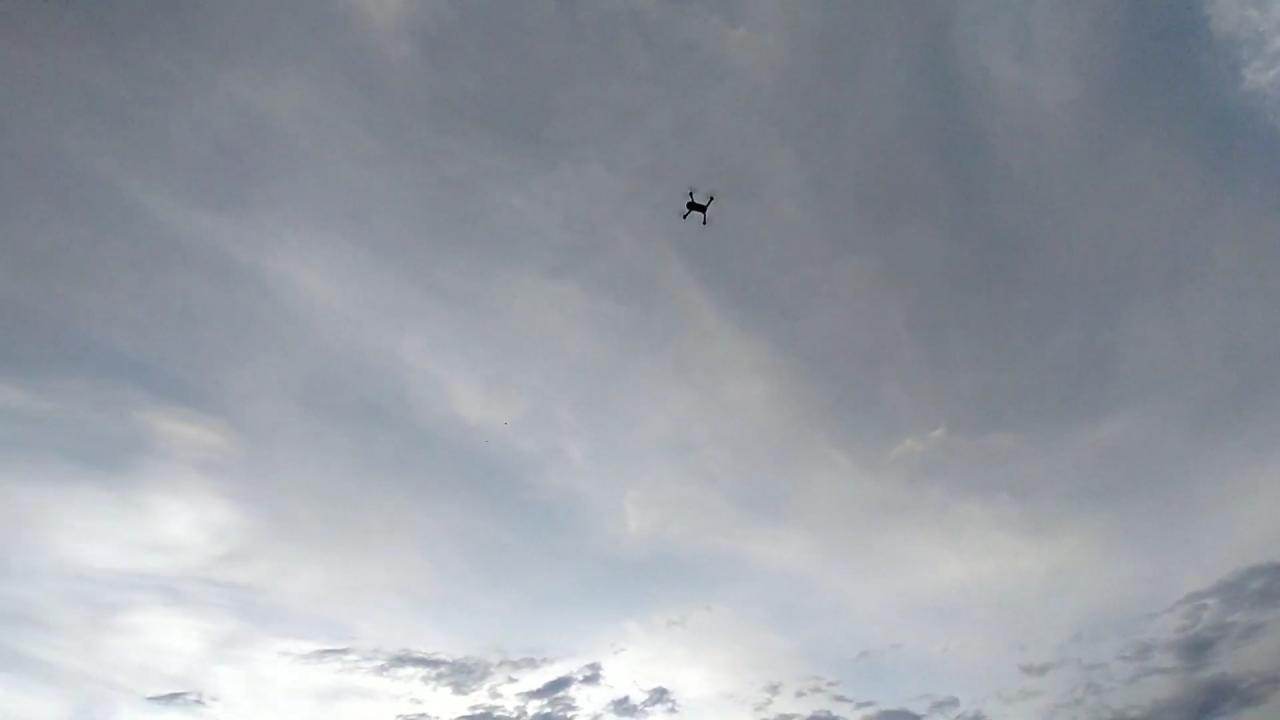Drone: (666, 179, 728, 236)
